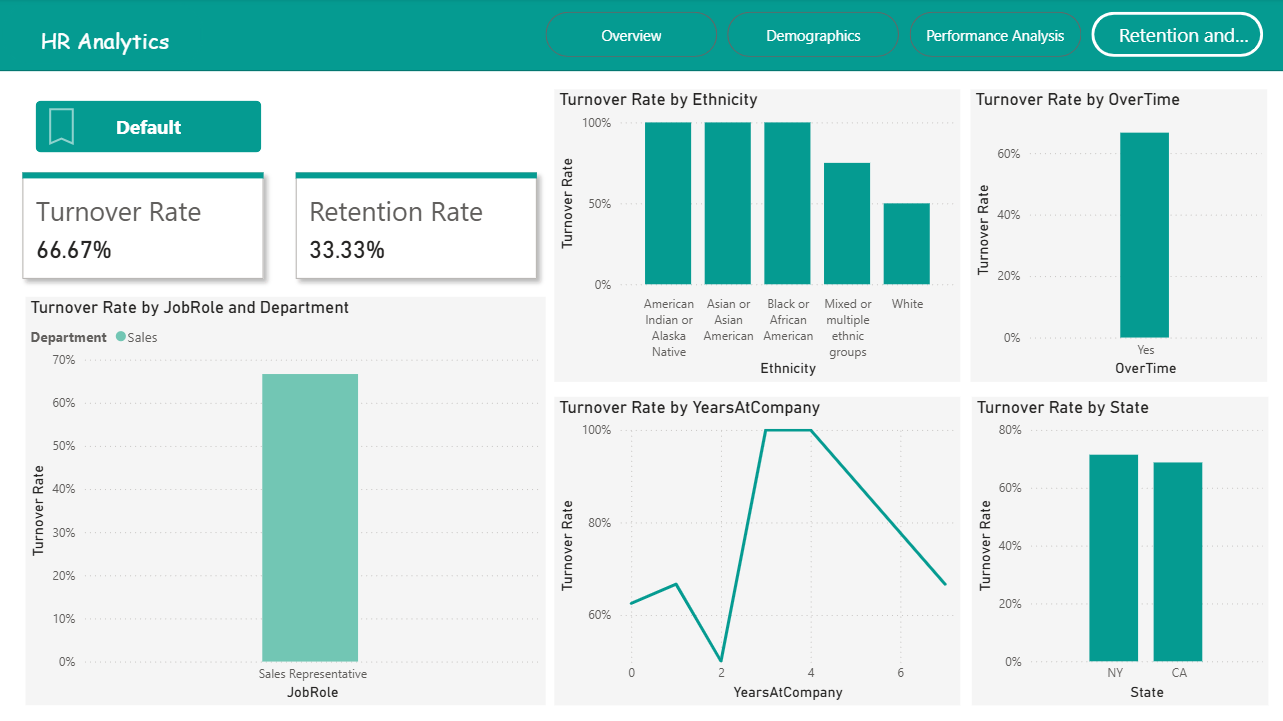

Layout of this report page (visuals, bound fields, positions):
{"tool":"powerbi","page":{"name":"Retention and Attrition Analysis","canvas":[1280,720],"ordinal":3},"visuals":[{"type":"shape","box":[0,0,1280.3,72.7],"z":0},{"type":"cardVisual","fields":{"Data":["_Measures.Turnover Rate","_Measures.Retention Rate"]},"box":[7.5,156.7,546.1,140.6],"z":1000},{"type":"clusteredColumnChart","fields":{"Category":["DimEmployee.Ethnicity"],"Y":["_Measures.Turnover Rate"]},"box":[553.6,90.8,404.3,291.1],"z":2000},{"type":"clusteredColumnChart","fields":{"Category":["DimEmployee.State"],"Y":["_Measures.Turnover Rate"]},"box":[969,396.8,294.8,307.3],"z":3000},{"type":"clusteredColumnChart","fields":{"Y":["_Measures.Turnover Rate"],"Category":["DimEmployee.JobRole"],"Series":["DimEmployee.Department"]},"box":[27.4,297.3,517.5,406.8],"z":4000},{"type":"clusteredColumnChart","fields":{"Category":["DimEmployee.OverTime"],"Y":["_Measures.Turnover Rate"]},"box":[967.8,90.8,294.8,291.1],"z":5000},{"type":"cardVisual","fields":{"Data":["_Measures.HR"]},"box":[0,0,209.9,72.7],"z":6000},{"type":"pageNavigator","box":[544.8,13.7,717.7,45.3],"z":7000},{"type":"actionButton","title":"High Turn over segment","box":[27.1,91.2,309.3,52.7],"z":8000},{"type":"lineChart","fields":{"Y":["_Measures.Turnover Rate"],"Category":["DimEmployee.YearsAtCompany"]},"box":[553.6,396.8,404.3,307.3],"z":10000}]}

Visuals, with their boxes in screenshot pixels (x1, y1, x2, y2), scaled from the page's 1280x720 canvas onto the 1283x721 screenshot:
shape: select_region(0, 0, 1282, 73)
cardVisual - _Measures.Turnover Rate x _Measures.Retention Rate: select_region(8, 157, 555, 298)
clusteredColumnChart - DimEmployee.Ethnicity x _Measures.Turnover Rate: select_region(555, 91, 960, 382)
clusteredColumnChart - DimEmployee.State x _Measures.Turnover Rate: select_region(971, 397, 1267, 705)
clusteredColumnChart - _Measures.Turnover Rate x DimEmployee.JobRole: select_region(27, 298, 546, 705)
clusteredColumnChart - DimEmployee.OverTime x _Measures.Turnover Rate: select_region(970, 91, 1266, 382)
cardVisual - _Measures.HR: select_region(0, 0, 210, 73)
pageNavigator: select_region(546, 14, 1265, 59)
"High Turn over segment" actionButton: select_region(27, 91, 337, 144)
lineChart - _Measures.Turnover Rate x DimEmployee.YearsAtCompany: select_region(555, 397, 960, 705)
